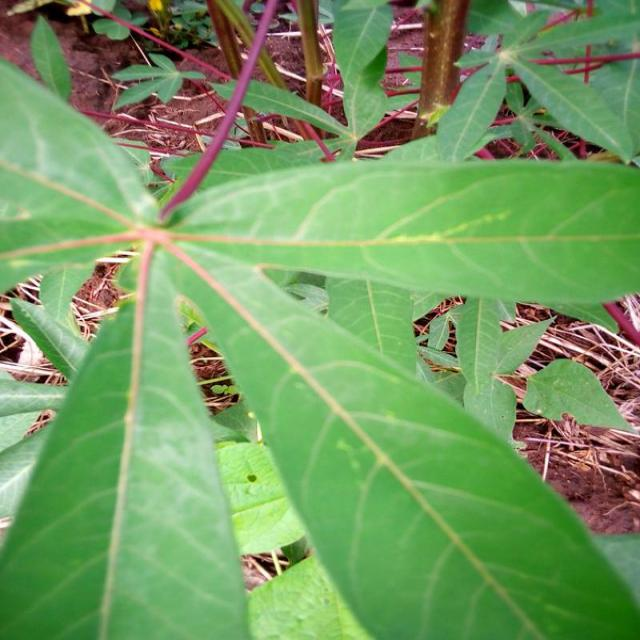cassava leaf: (2, 21, 639, 637), (2, 239, 251, 638)
